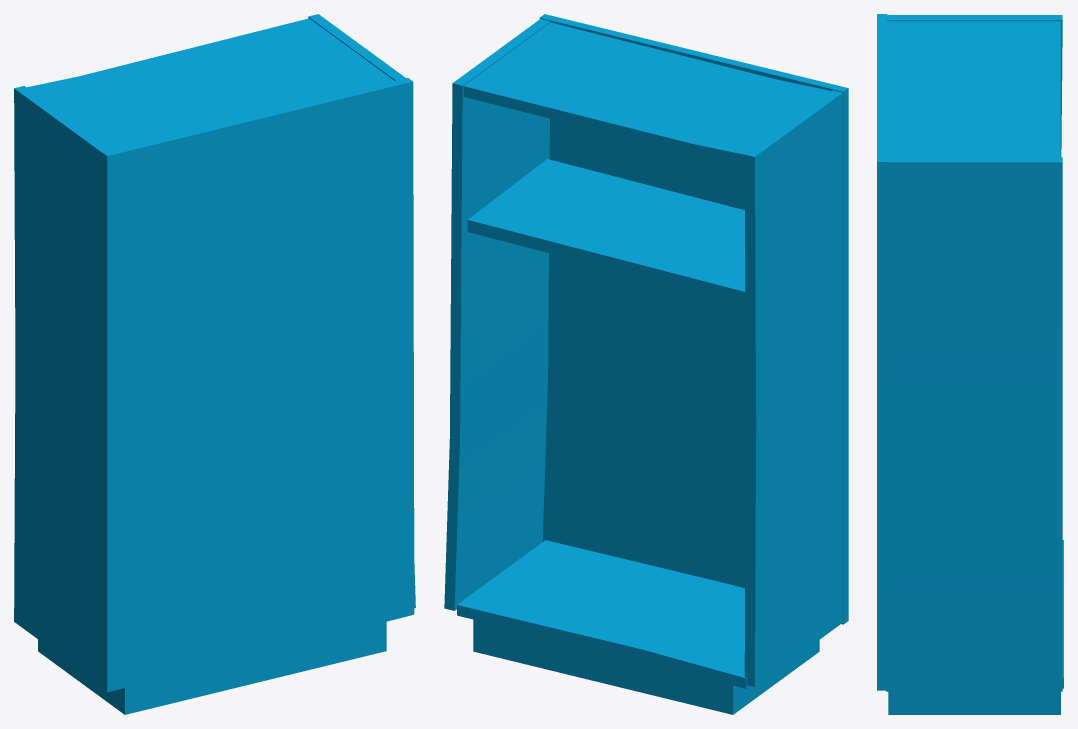
File: Bedroom_Cupboard_02_Lod0.fbx
The picture shows the model from 3 angles, left to right: view 1: azimuth 30°, elevation 25°; view 2: azimuth 150°, elevation 25°; view 3: azimuth 270°, elevation 25°; orthographic projection.
Visible parts, largest first — view 1: Bedroom_Cupboard_02_Lod0; view 2: Bedroom_Cupboard_02_Lod0; view 3: Bedroom_Cupboard_02_Lod0.
Part boxes in pixels (left/top/right/bottom): Bedroom_Cupboard_02_Lod0: left=14, top=14, right=415, bottom=714; Bedroom_Cupboard_02_Lod0: left=444, top=14, right=848, bottom=714; Bedroom_Cupboard_02_Lod0: left=877, top=14, right=1063, bottom=714.
Bounding box in the file's own units: 129 × 224 × 67.33.
